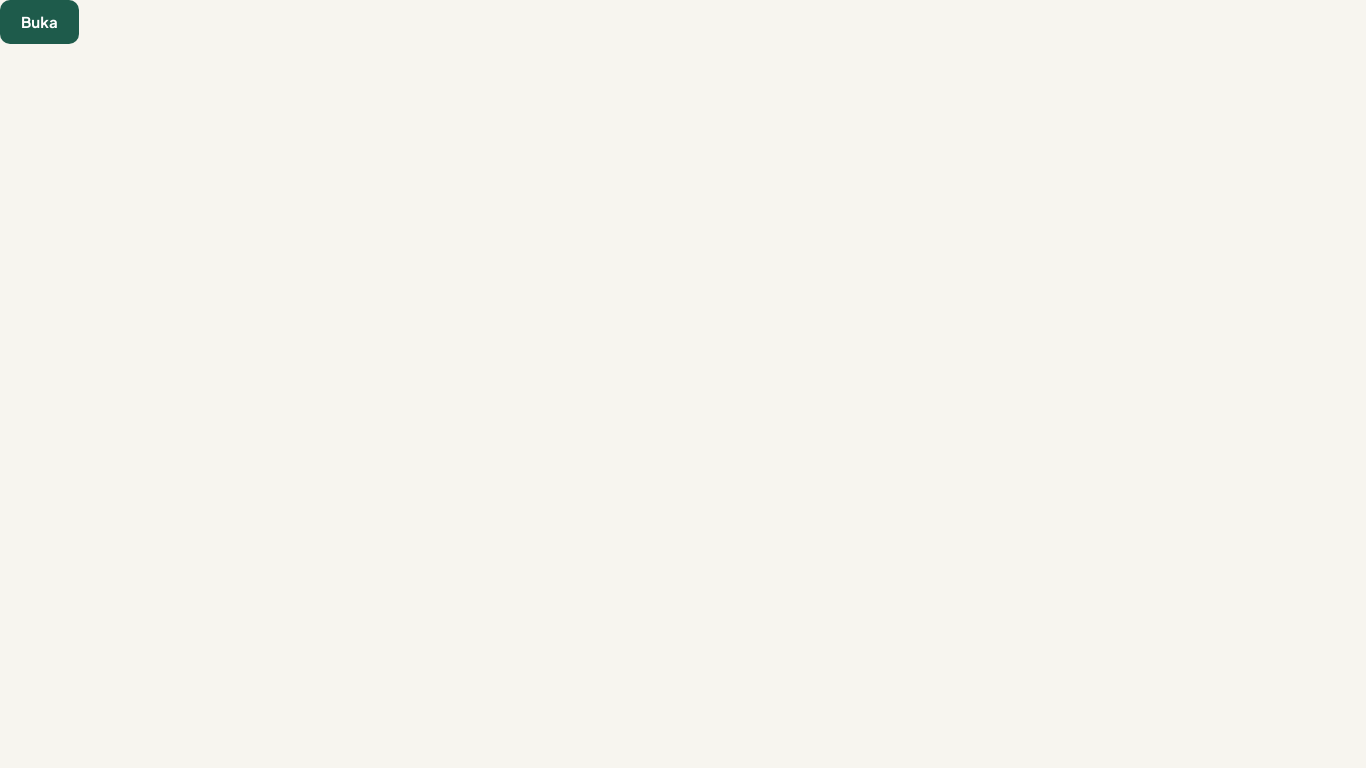
Dialog (Radix Dialog) › closes when the scrim is pressed
Click the button "Buka": (39, 22) [0,0,79,44]
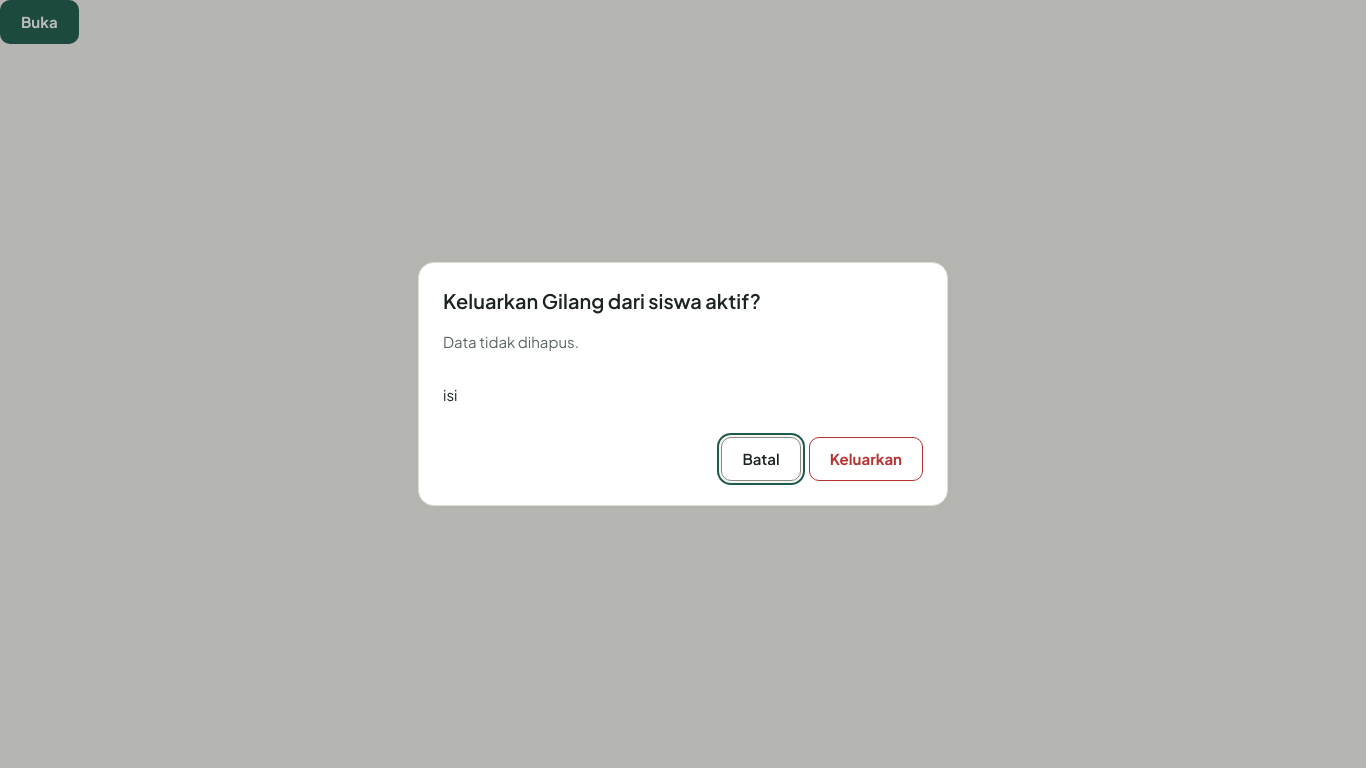
Now the dialog is shown, box [418,262,948,506]
Now the 1st element with class "inset-0" is shown
Click the 1st element with class "inset-0": (82, 384) [0,0,1365,767]
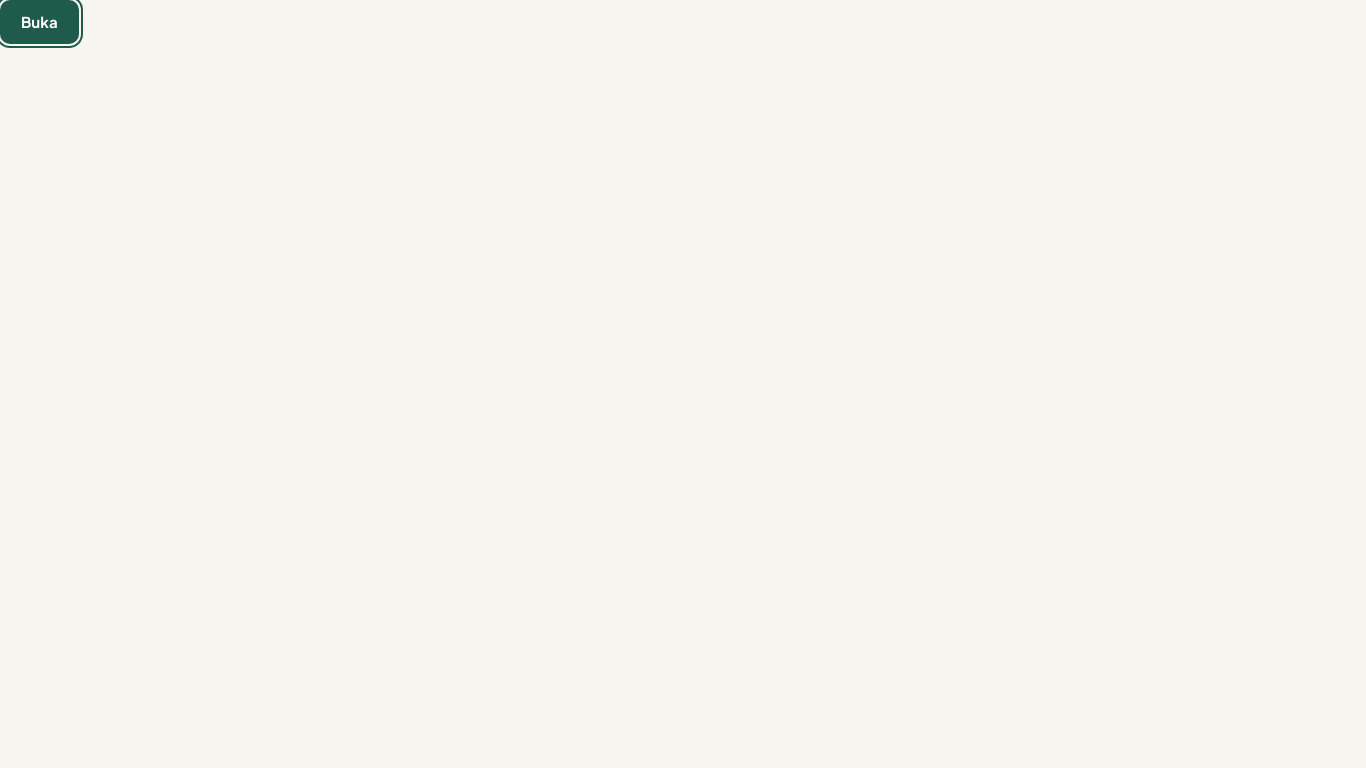
Now the dialog is gone
